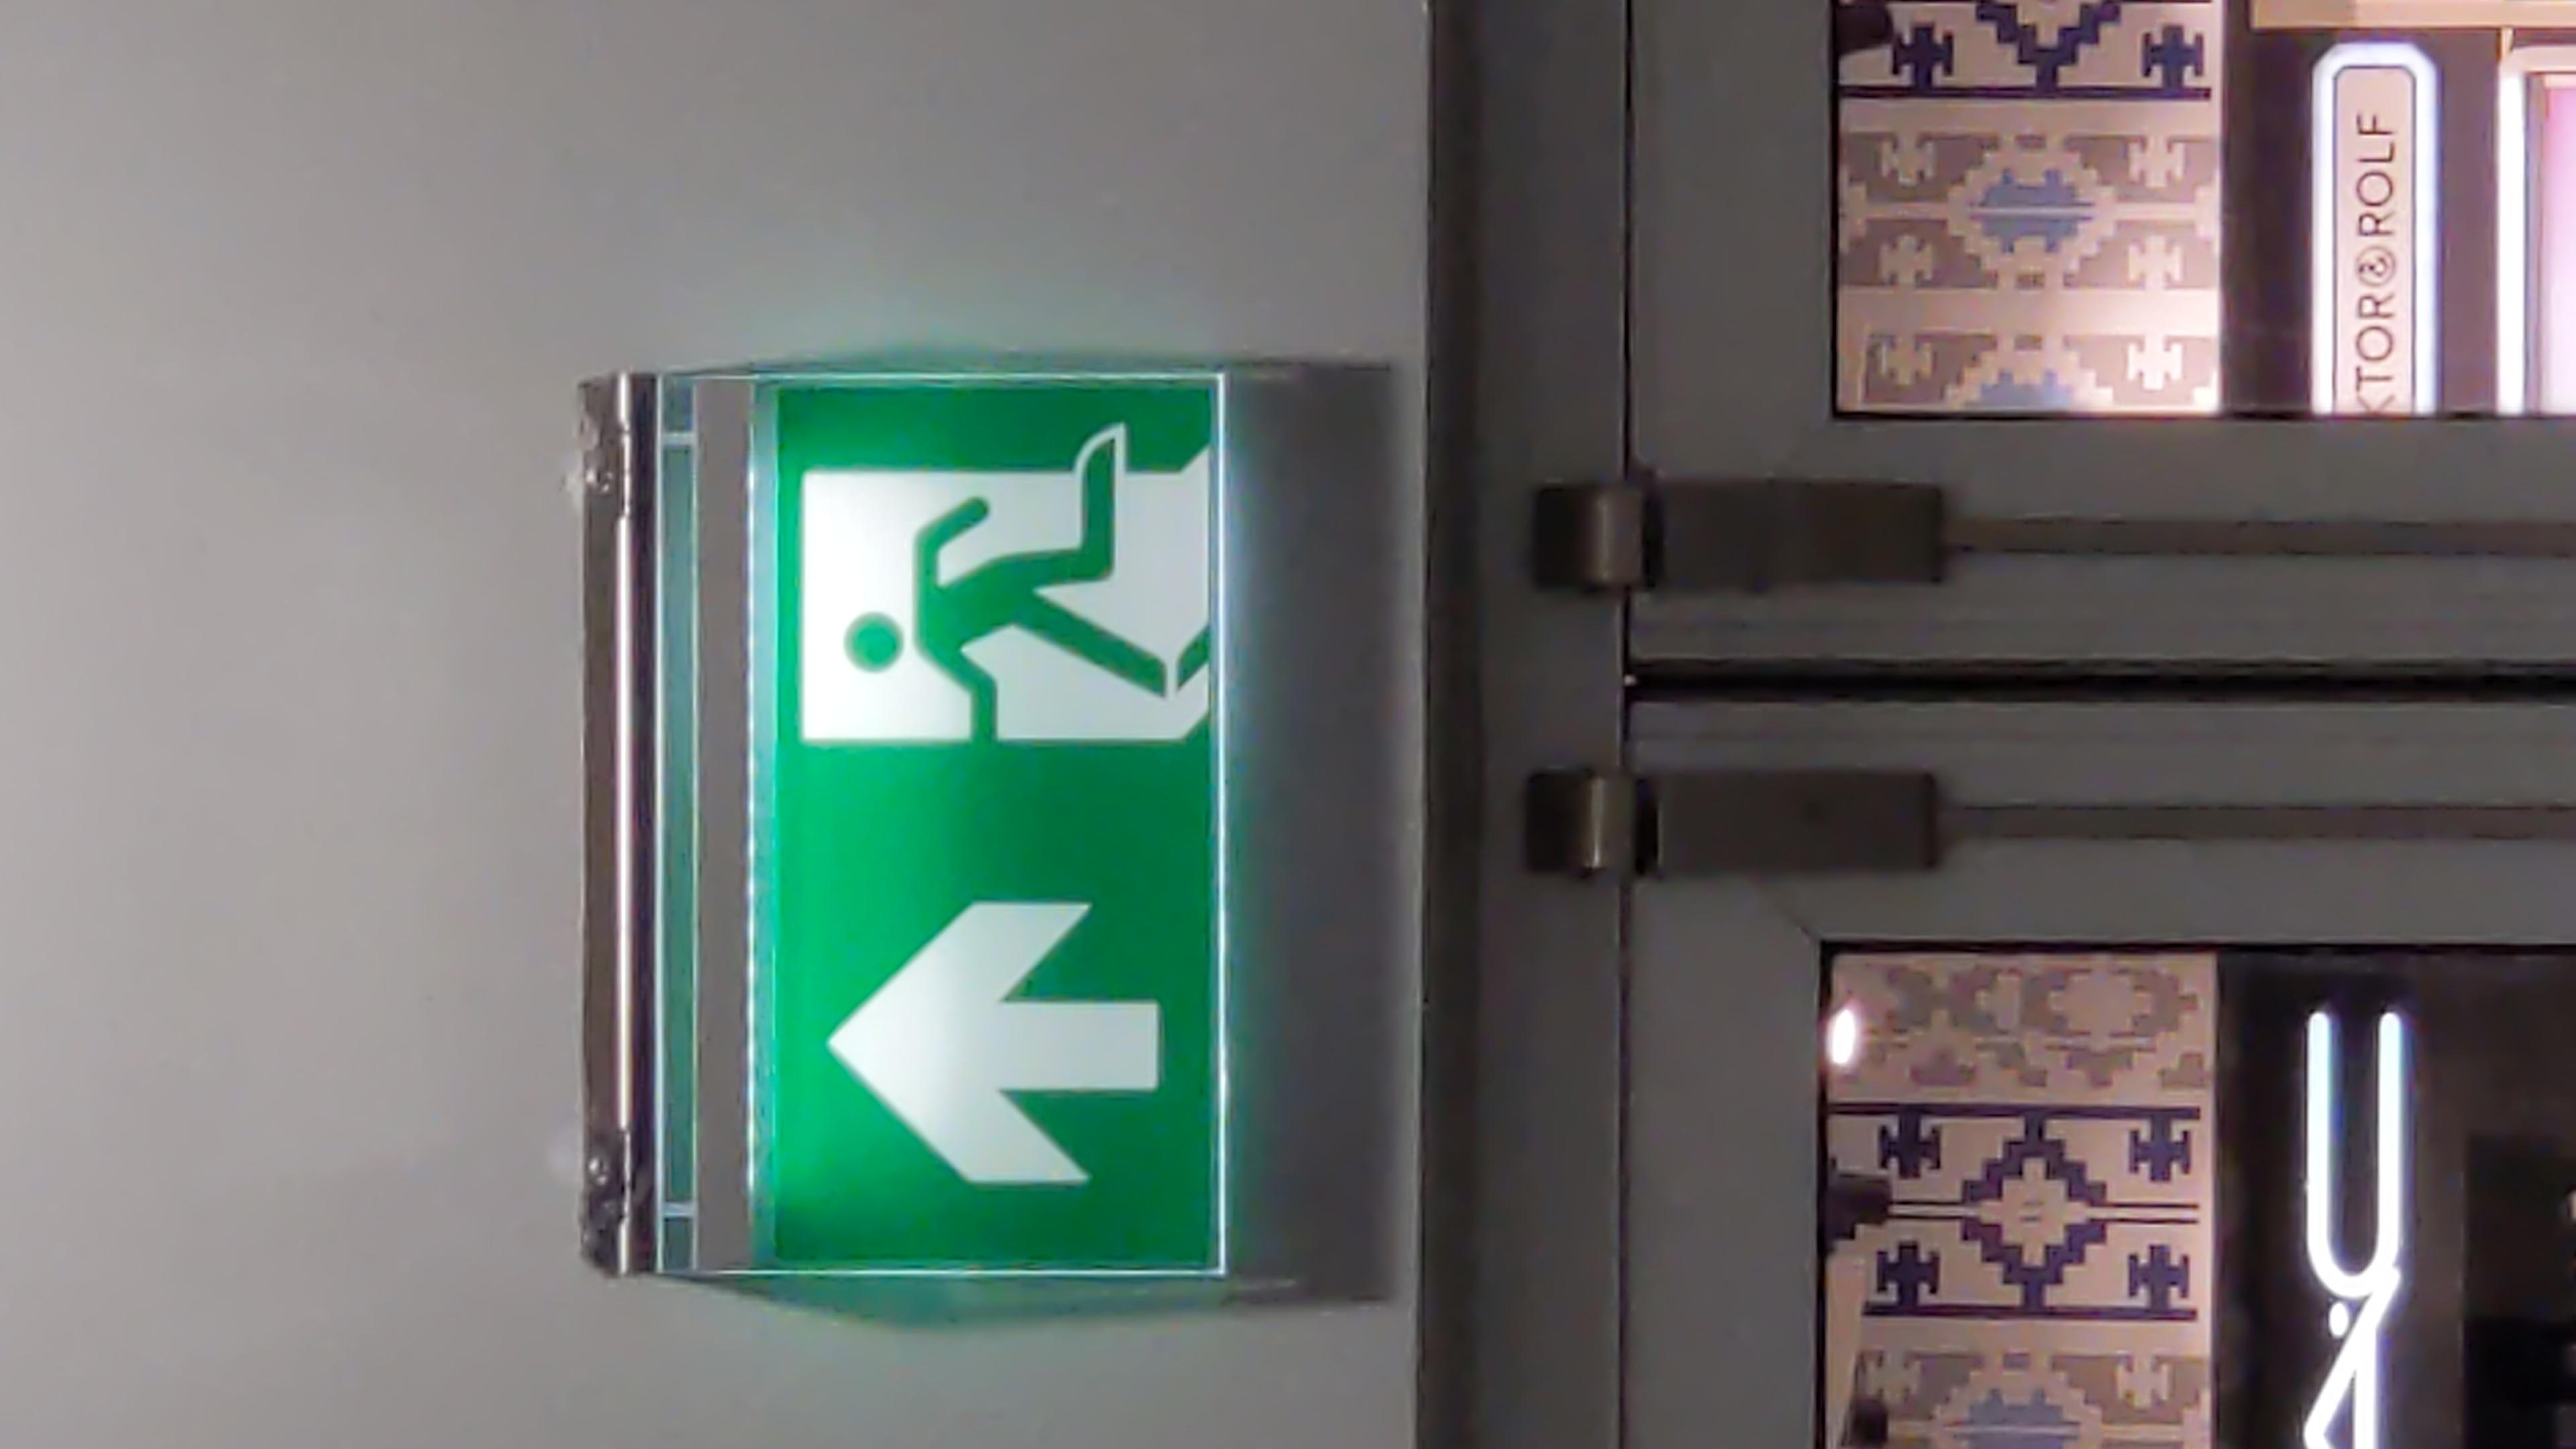emergency exit: (1224, 444, 1828, 686)
emergency up arrow: (446, 456, 1014, 660)
